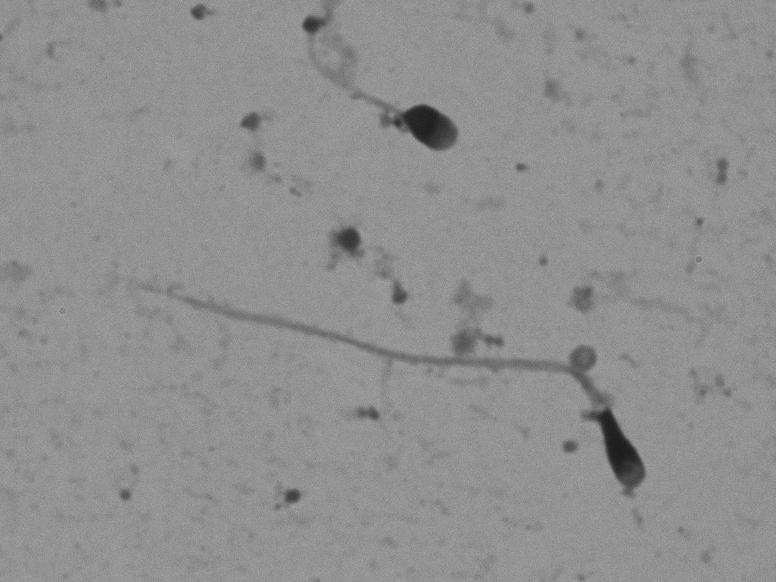Abnormal: (97, 272, 700, 518), (269, 11, 488, 166)
